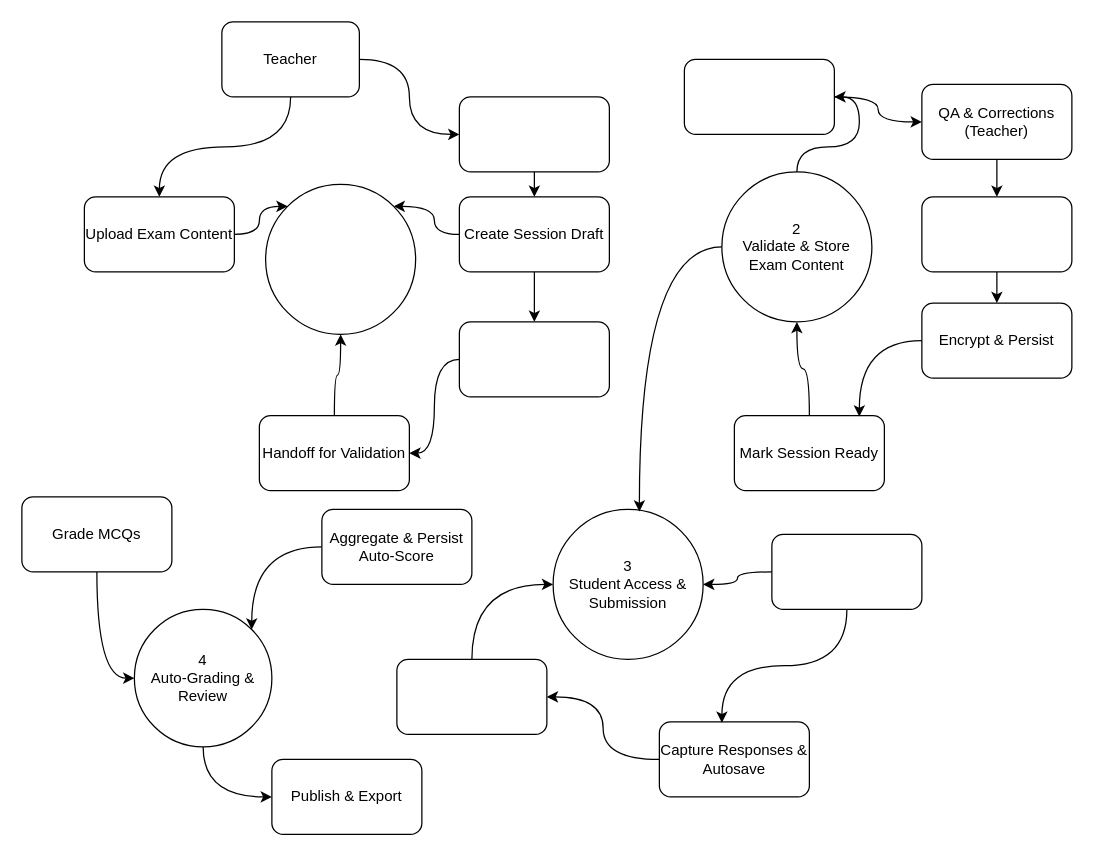
This 1094x856 diagram has some shape labels left out. The shapes that lost their labels are listed below. From the top down, each one's centre as x and y in pixels, then its label:
point (758, 96): OCR/Extract
point (533, 134): View & Filter Labs/Slots
point (996, 234): Parse & Structure
point (340, 258): 1 Manage Bookings & Questions
point (533, 359): Seat Plan (Auto/Manual)
point (846, 571): Pre-Access password Checks
point (471, 696): Final Submit
